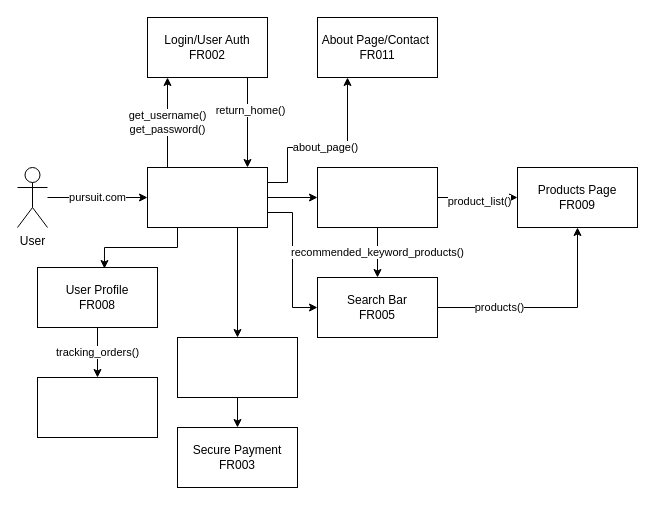
Image size: 655x505. Some labels were removed from this diagram. Here are the shapes that lost their labels. From the top down, the box of each, then its label:
(146, 166, 268, 228): Homepage FR001
(316, 166, 438, 228): Categories FR008
(176, 336, 298, 398): Shopping Cart/Checkout FR006
(36, 376, 158, 438): Order Tracking FR004
